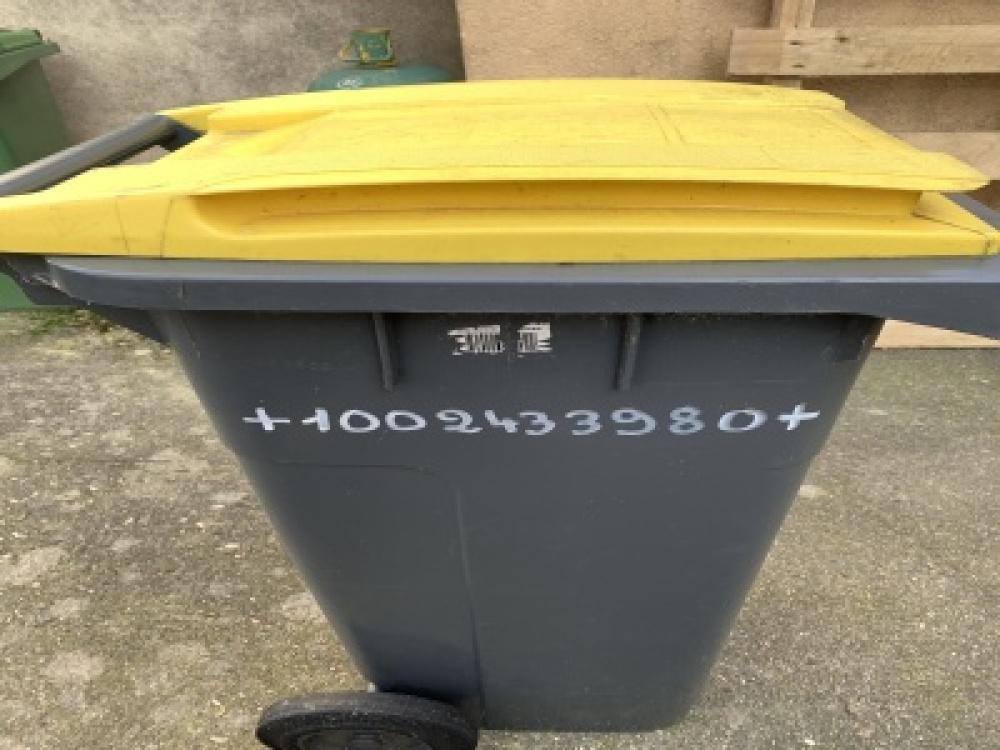+: (771, 398, 821, 434), (236, 404, 293, 434)
0: (716, 409, 768, 434), (340, 407, 380, 438), (386, 408, 430, 433)
1: (304, 405, 334, 437)
2: (436, 409, 484, 435)
3: (566, 408, 602, 440), (520, 408, 556, 440)
4: (484, 408, 520, 433)
8: (669, 405, 703, 437)
9: (609, 408, 658, 440)
